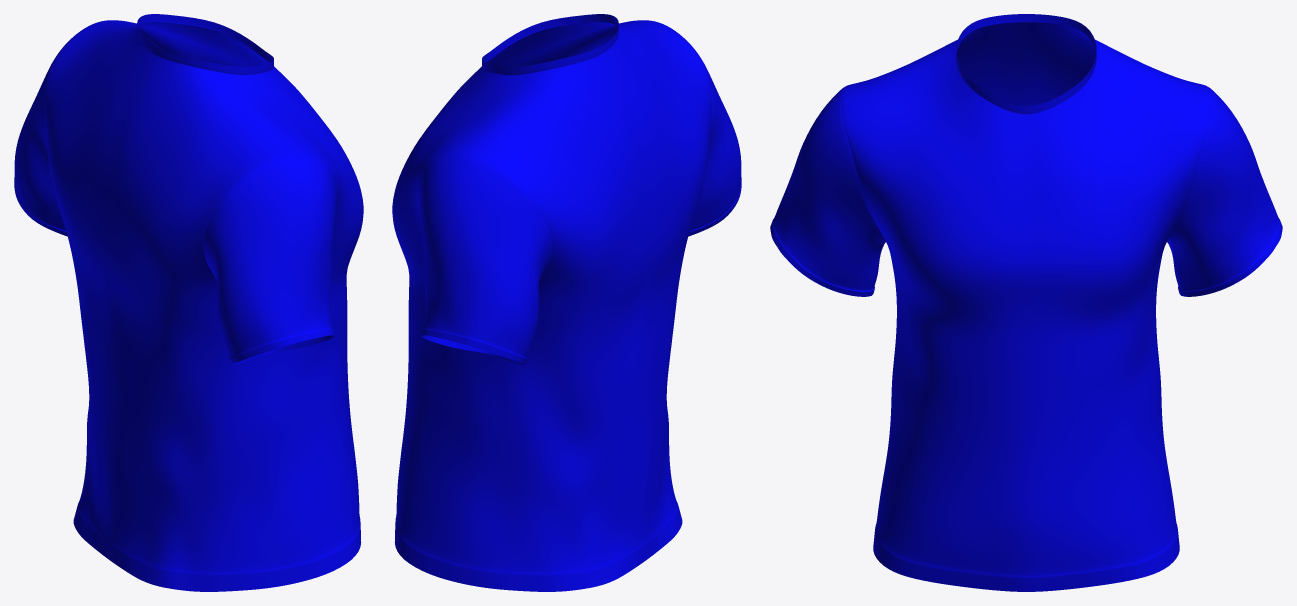
Rendered from tshirt-blue.glb.
The picture shows the model from 3 angles, left to right: view 1: azimuth 30°, elevation 25°; view 2: azimuth 150°, elevation 25°; view 3: azimuth 270°, elevation 25°; orthographic projection.
Parts seen in each view (by area): view 1: Plane; view 2: Plane; view 3: Plane.
Boxes of the visible parts, box(x1,y1,x2,y2) form: Plane: box(14, 14, 363, 591); Plane: box(392, 14, 741, 591); Plane: box(770, 14, 1282, 591).
Bounding box in the file's own units: 0.5247 × 1.09 × 1.01.
